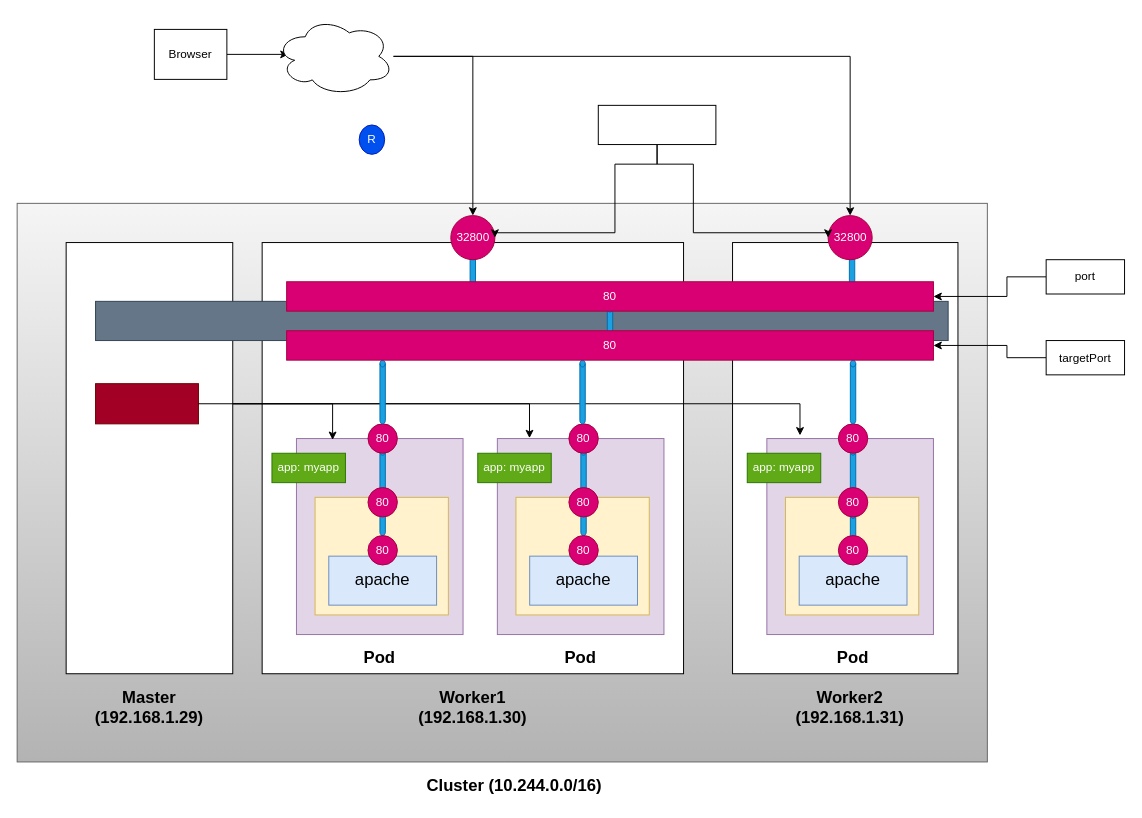
This 1142x818 diagram has some shape labels left out. Here are the shapes that lost their labels. From the top down, the centre of each, then its label:
At point 334,56: "network".
At point 656,124: "Node Port".
At point 521,320: "Service".
At point 146,403: "ReplicaSet".
